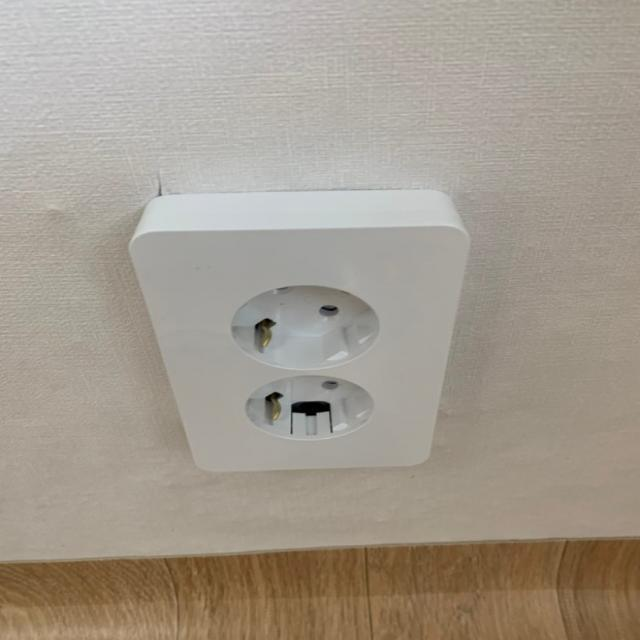typeb: (58, 176, 496, 520)
